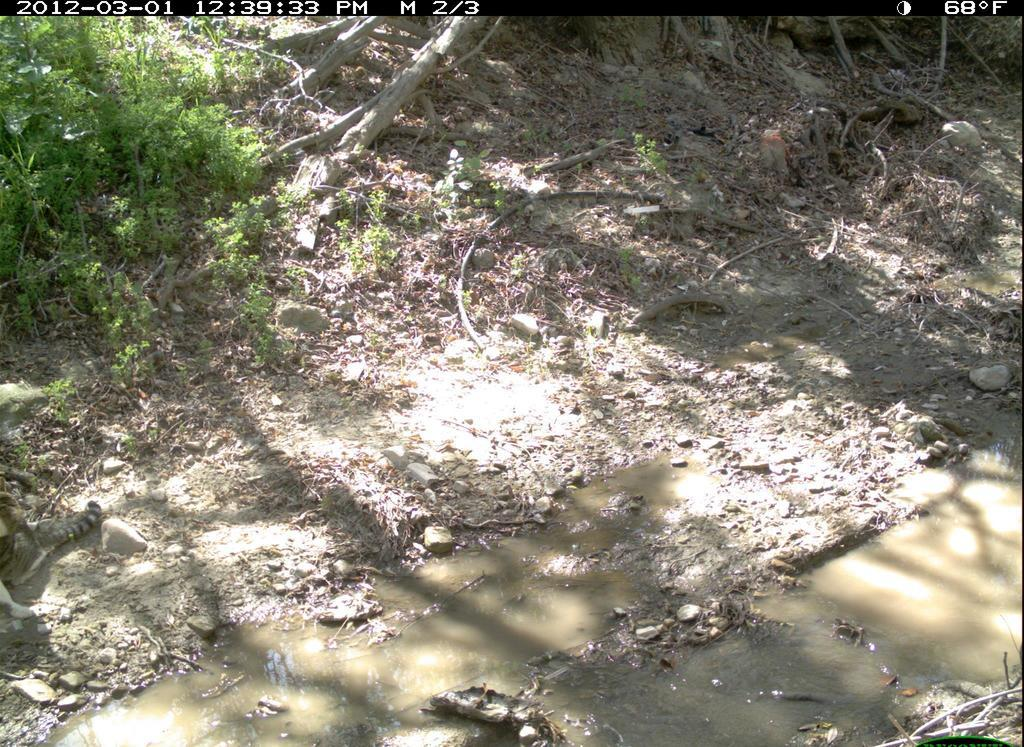cat: (7, 492, 144, 629)
